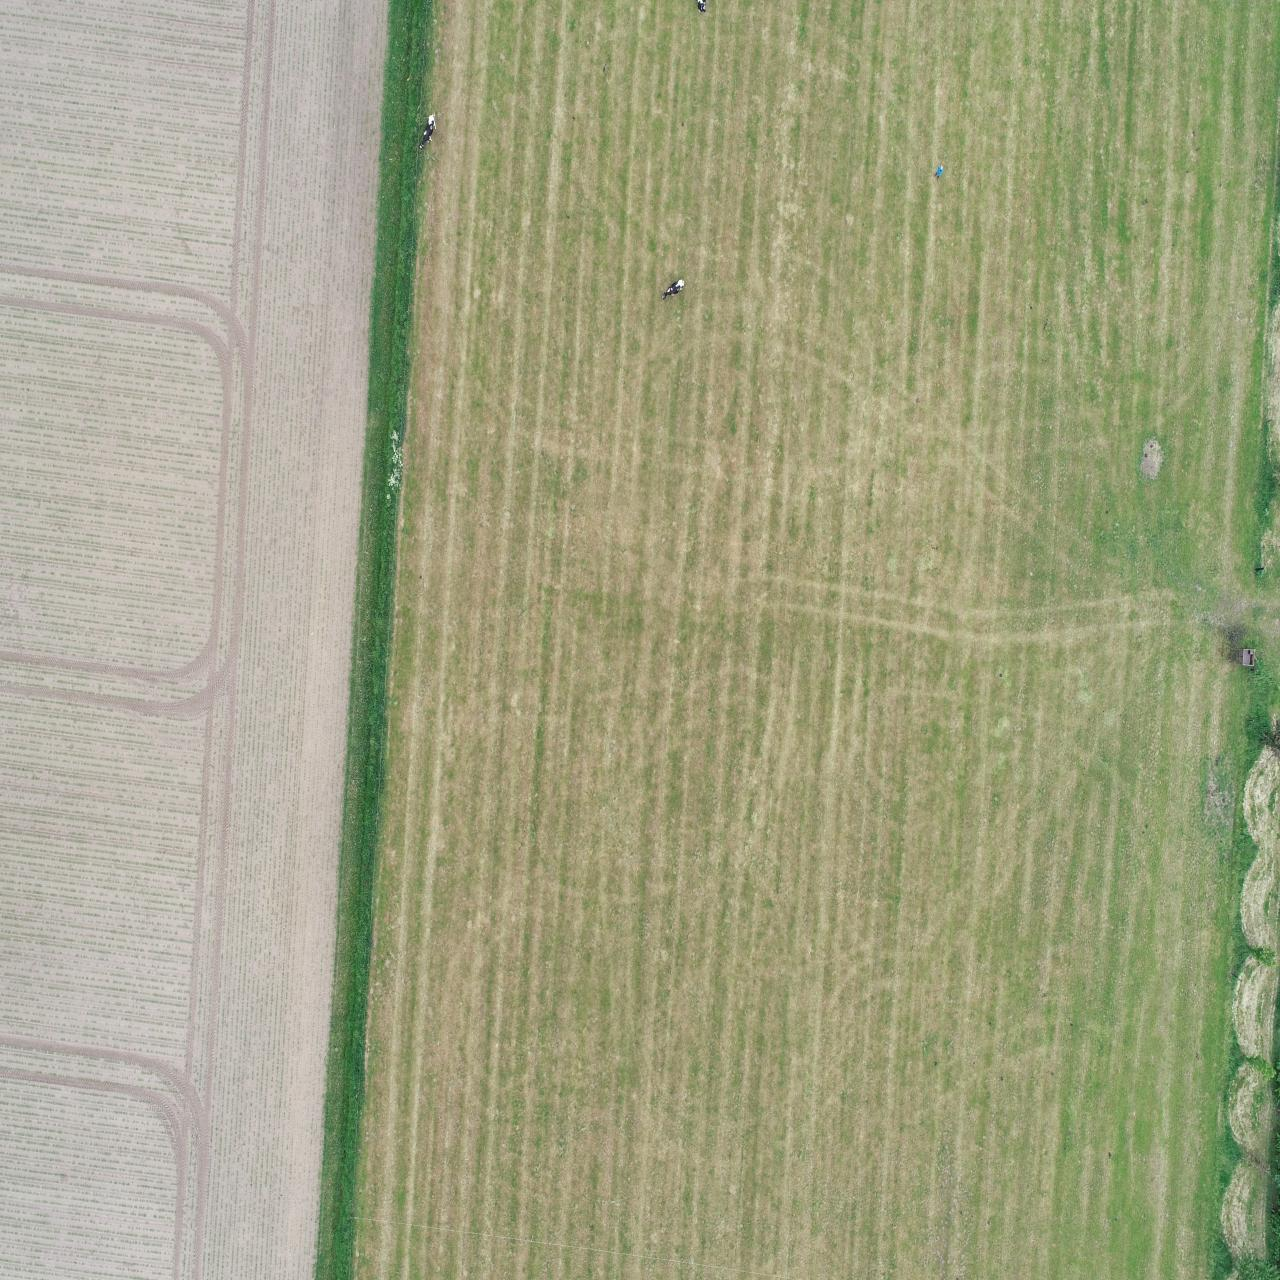cow: (659, 273, 688, 305), (417, 109, 440, 149)
